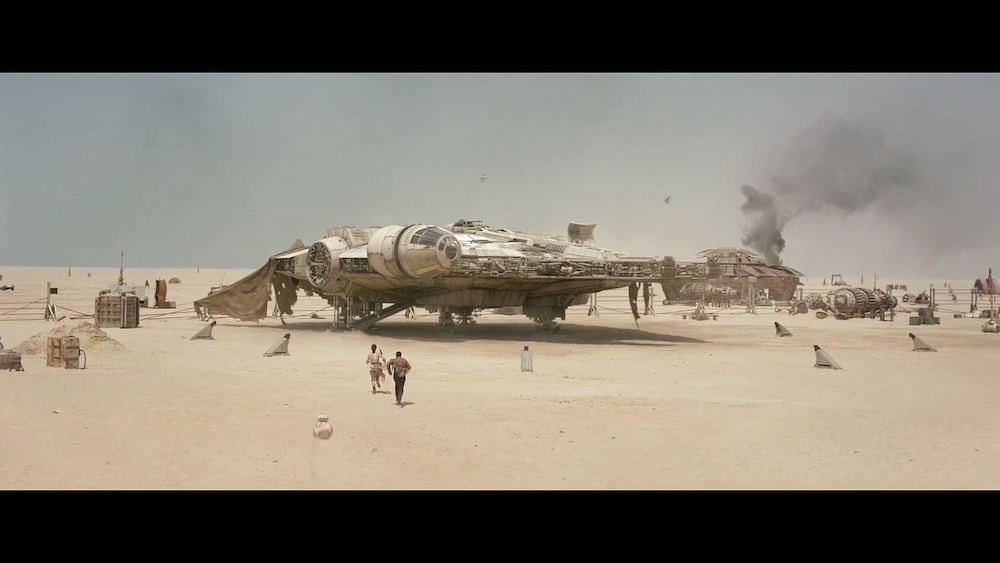Millennium Falcon: (268, 226, 722, 312)
Tie Fighter: (480, 173, 488, 183), (664, 197, 672, 205)
